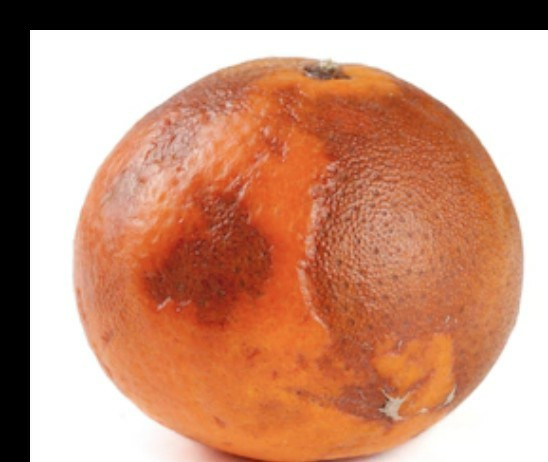rotten_orange: (76, 57, 529, 461)
